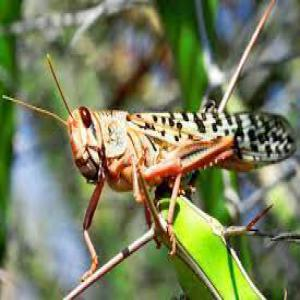locust: (43, 47, 300, 217)
